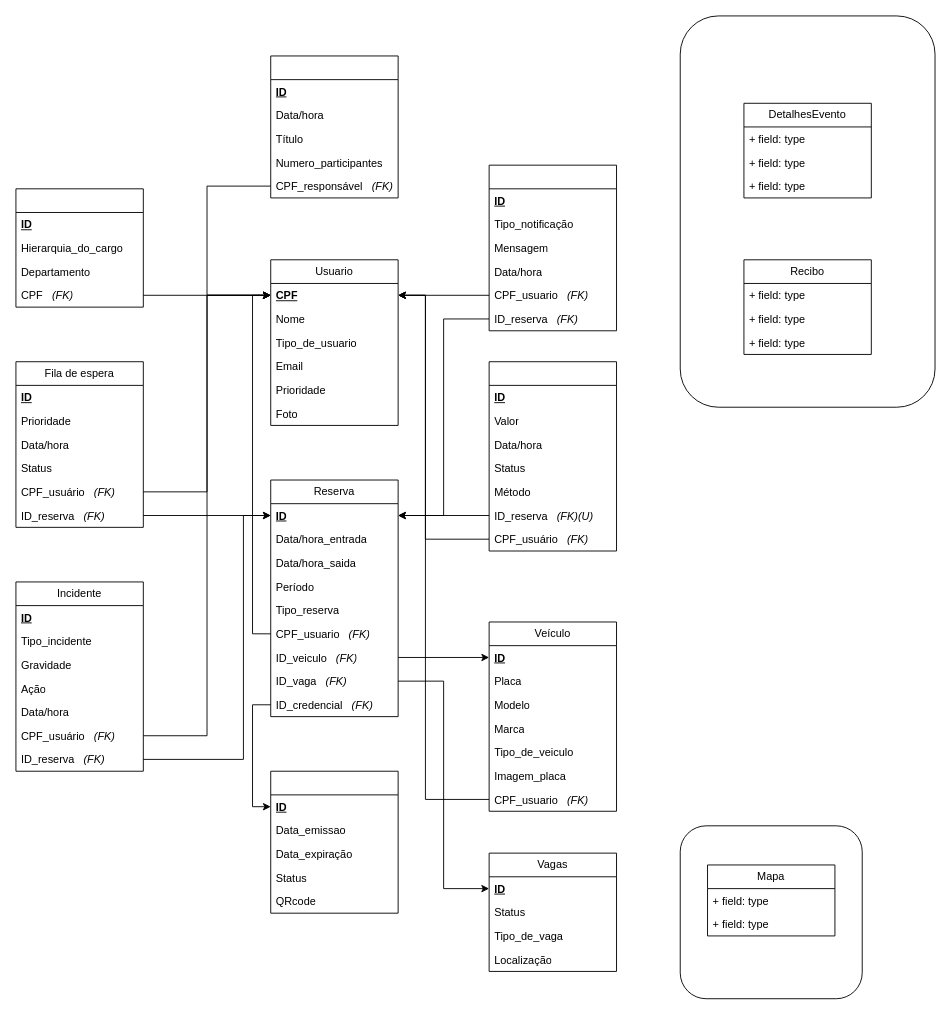
The diagram is 951 pixels wide and 1015 high, and some of its shapes have lost their labels. The box of each missing label's shape, as (x1, y1, x2, y2) in pixels:
Credencial: (270, 770, 398, 913)
Eventos: (270, 55, 398, 198)
Funcionário: (15, 188, 143, 307)
Notificações: (488, 164, 617, 331)
Pagamento: (488, 361, 617, 551)
